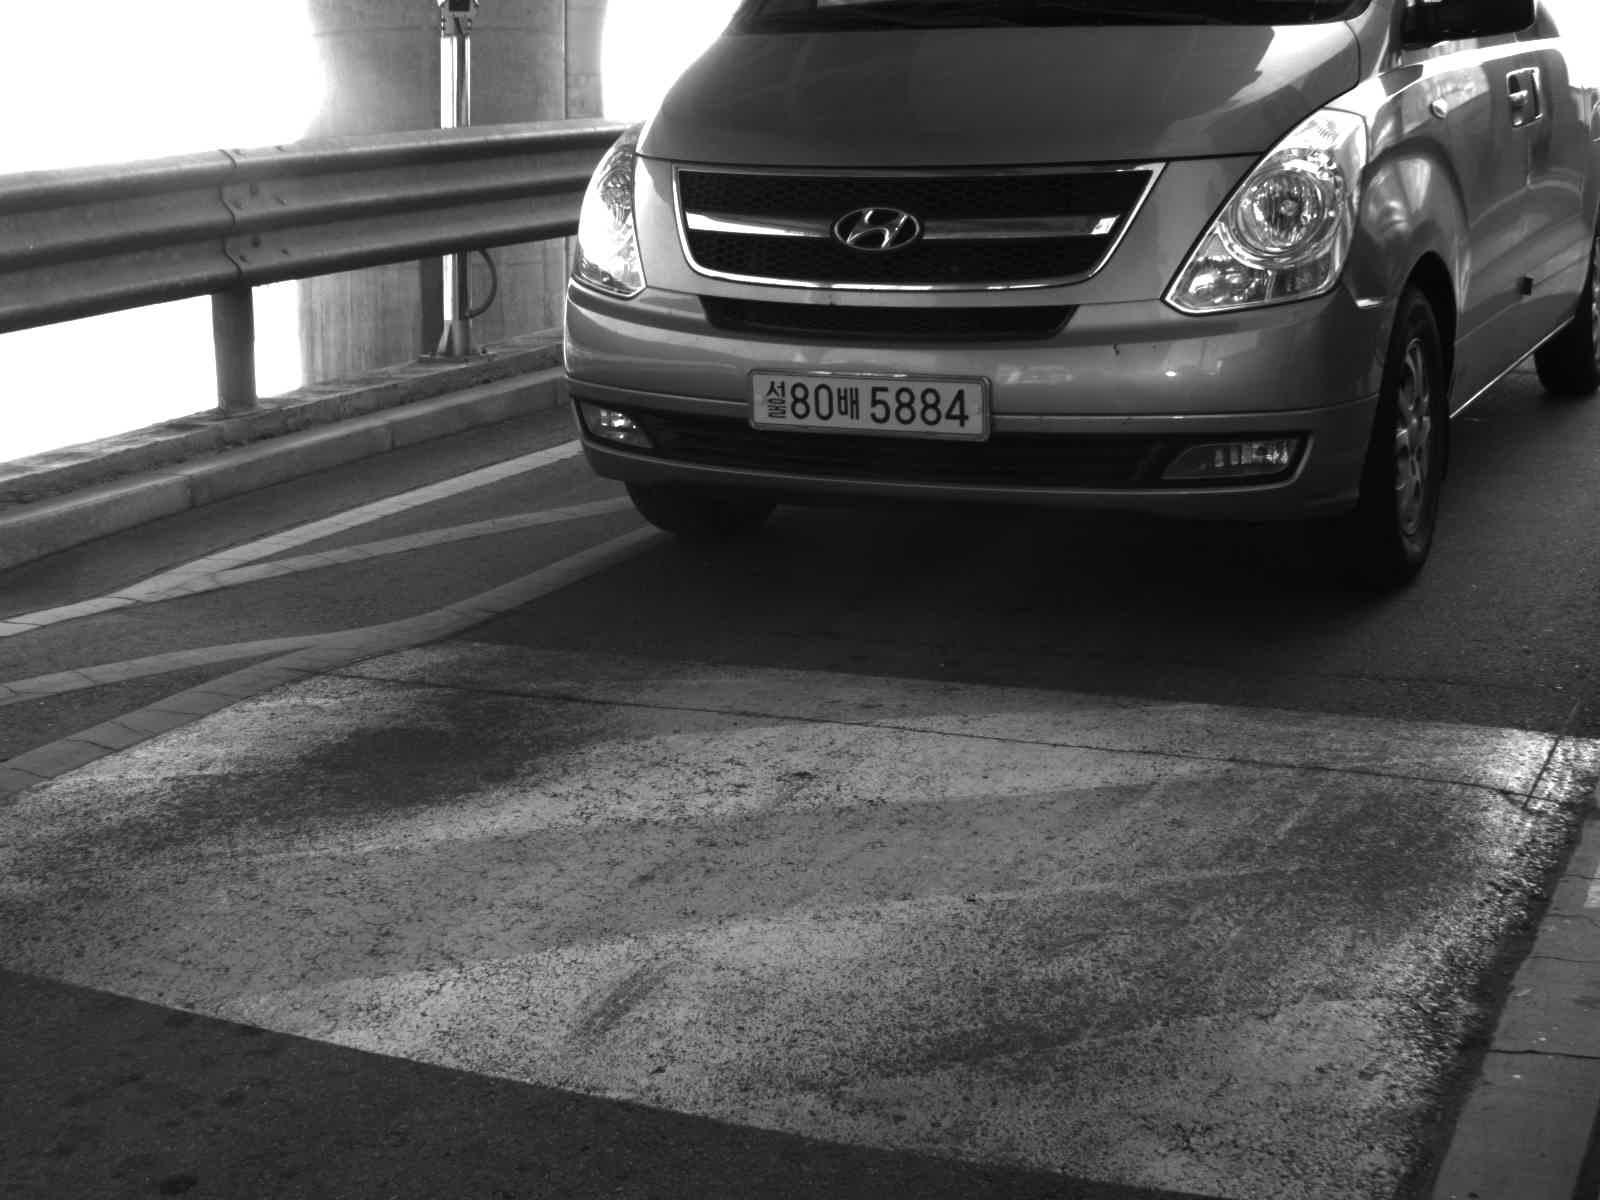P4_서울80배5884: (749, 367, 985, 439)
배: (830, 381, 868, 419)
서울: (767, 374, 790, 424)
